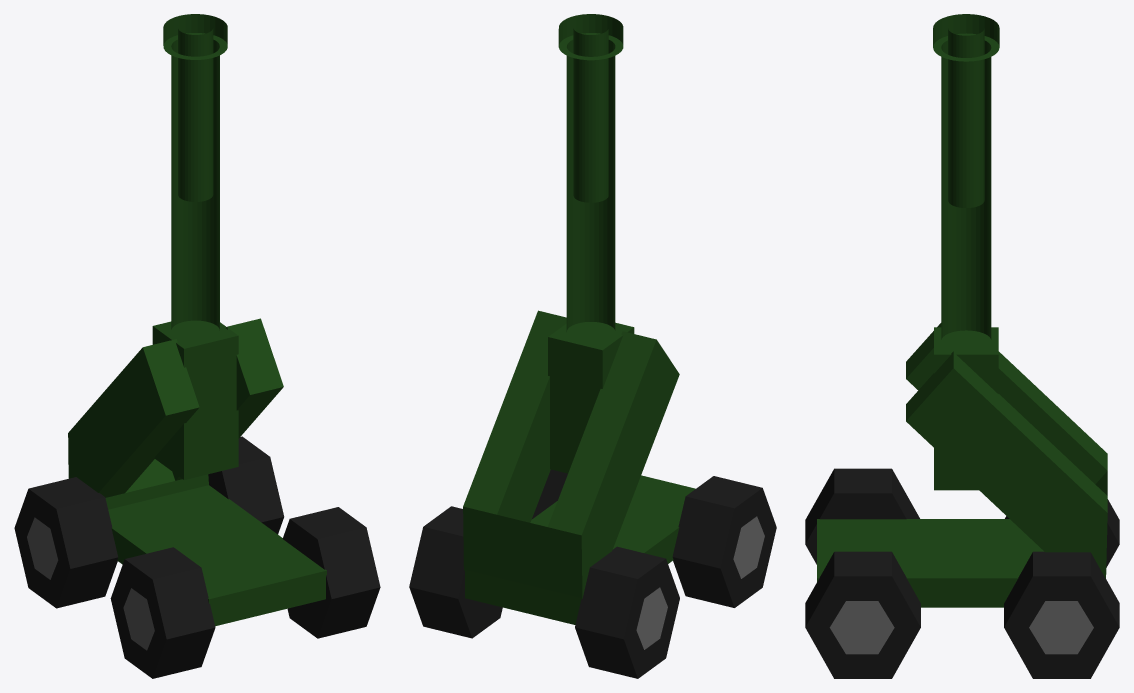
File: towerzenit1lvlFix.fbx
3 renders of one model, left to right at view 1: azimuth 30°, elevation 25°; view 2: azimuth 150°, elevation 25°; view 3: azimuth 270°, elevation 25°, orthographic. The views are drawn at different scales.
Parts seen in each view (by area): view 1: Cube.010; view 2: Cube.010; view 3: Cube.010.
Boxes of the visible parts, x1,y1,x2,y2 form: Cube.010: [14, 14, 380, 678]; Cube.010: [409, 14, 776, 678]; Cube.010: [805, 14, 1119, 678].
Bounding box in the file's own units: 145 × 374 × 179.
